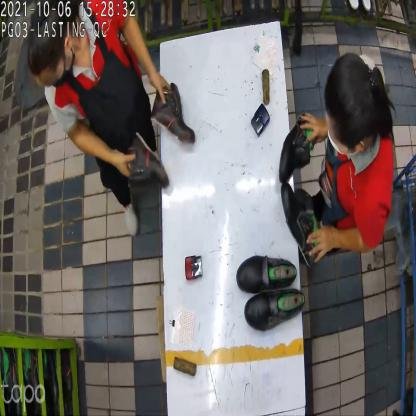shoes: (126, 83, 198, 187), (277, 119, 322, 262), (236, 255, 305, 331)
stamp: (182, 249, 204, 284), (252, 102, 271, 137)
